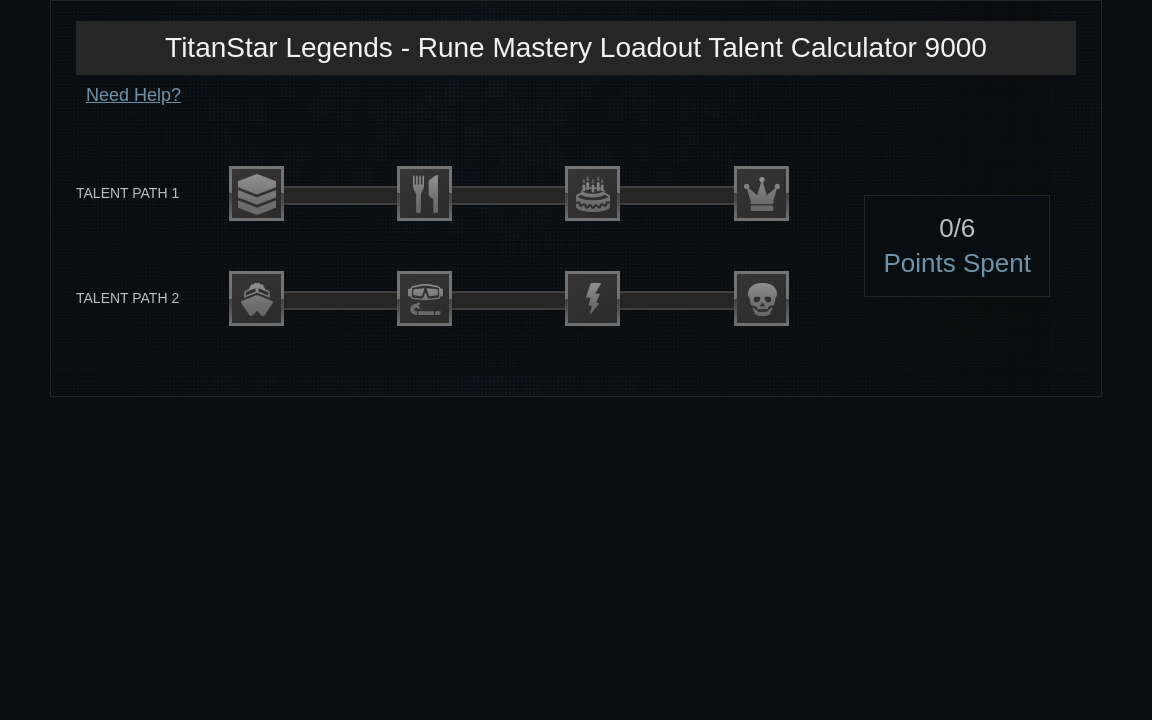
it: <App /> updates count as items are selected and deselected
Expected: the text "0/6" is shown, [939, 212, 975, 244]
# Add items and check the count
Click the button named "chevron" at {"x": 257, "y": 193}, box [229, 166, 284, 221]
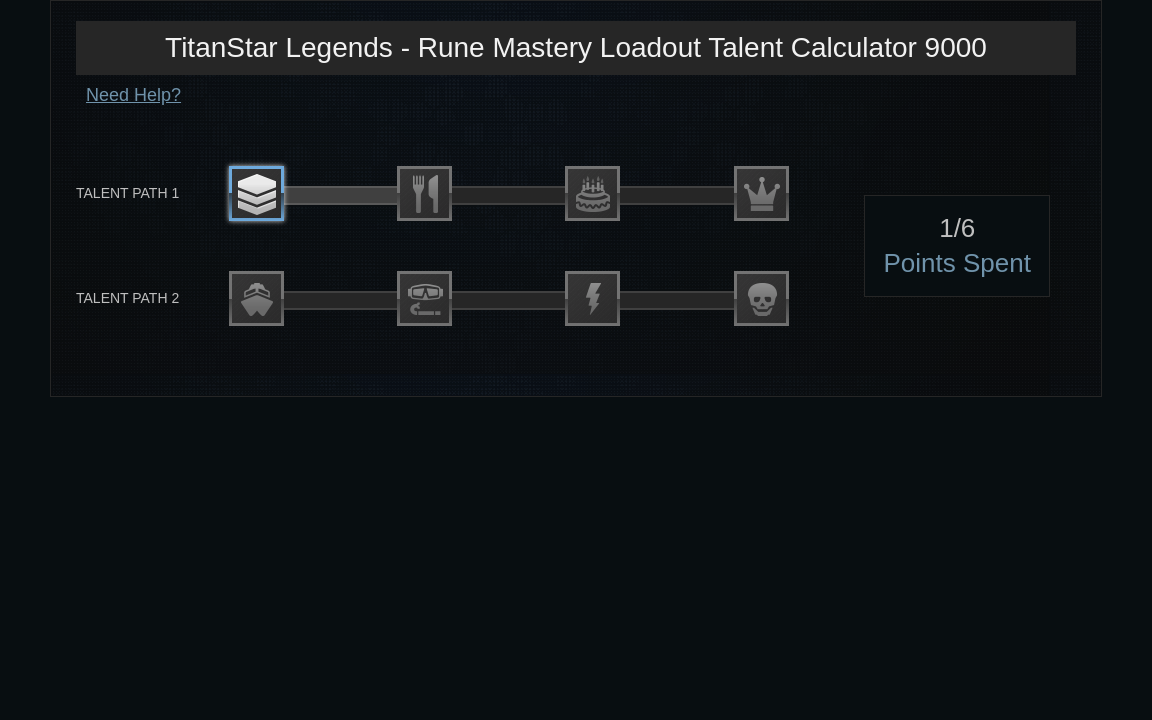
Now the text "0/6" is gone
Now the text "1/6" is shown, box [939, 212, 975, 244]
Click the button named "silverware" at {"x": 425, "y": 193}, box [397, 166, 452, 221]
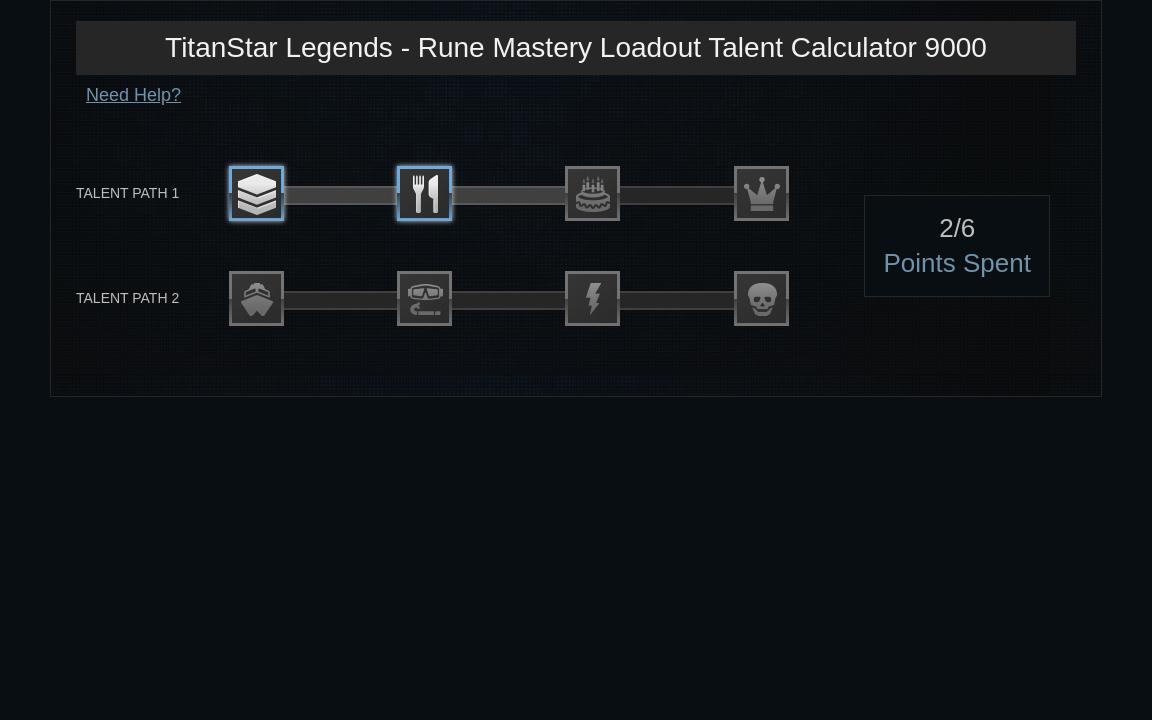
Now the text "1/6" is gone
Now the text "2/6" is shown, box [939, 212, 975, 244]
Click the button named "cake" at {"x": 593, "y": 193}, box [565, 166, 620, 221]
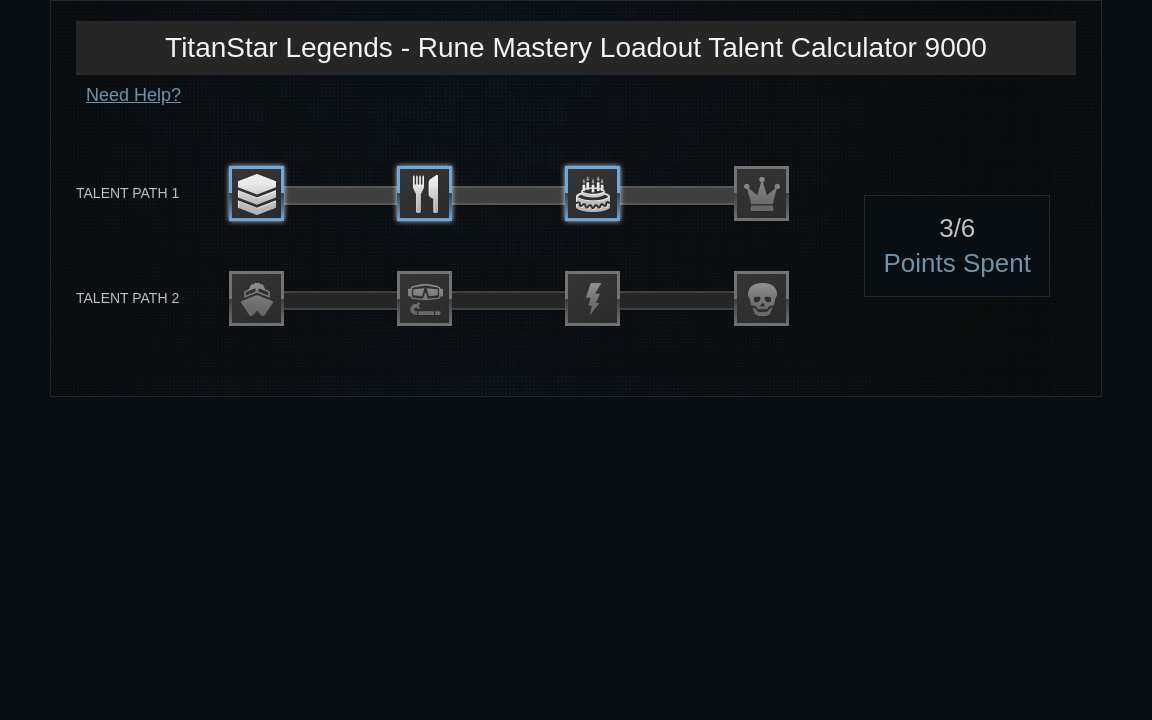
Now the text "2/6" is gone
Now the text "3/6" is shown, box [939, 212, 975, 244]
# Remove a single item and check count
Right-click the button named "cake" at {"x": 593, "y": 193}, box [565, 166, 620, 221]
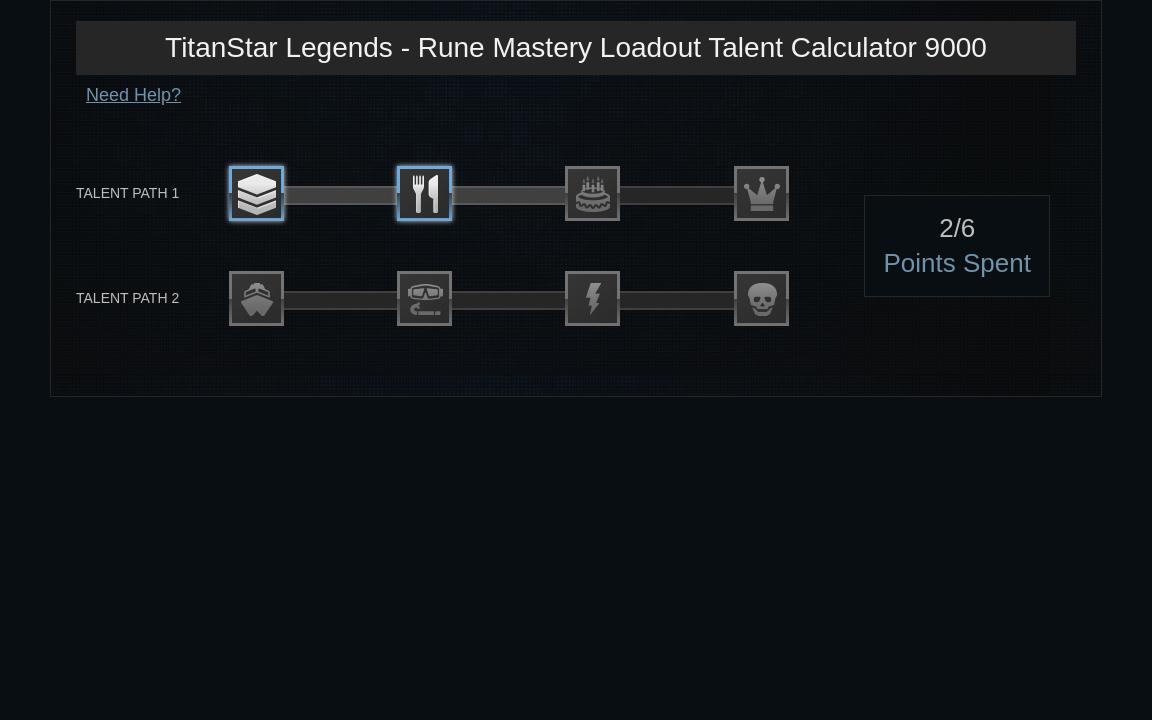
Now the text "3/6" is gone
Now the text "2/6" is shown, box [939, 212, 975, 244]
# Remove a prerequisite item and check count
Right-click the button named "chevron" at {"x": 257, "y": 193}, box [229, 166, 284, 221]
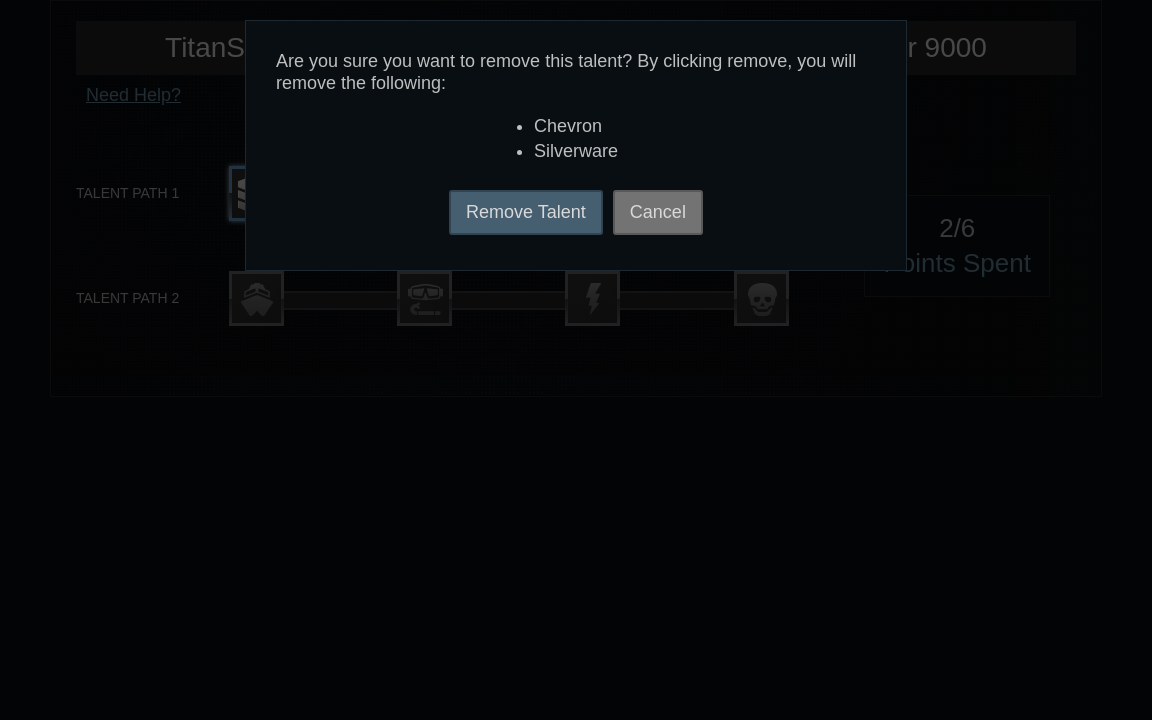
Now the text "2/6" is shown, box [939, 212, 975, 244]
Now the text "Are you sure you want to remove this talent" is shown, box [276, 51, 856, 93]
Click the button "Remove Talent" at {"x": 526, "y": 212}, box [449, 190, 603, 235]
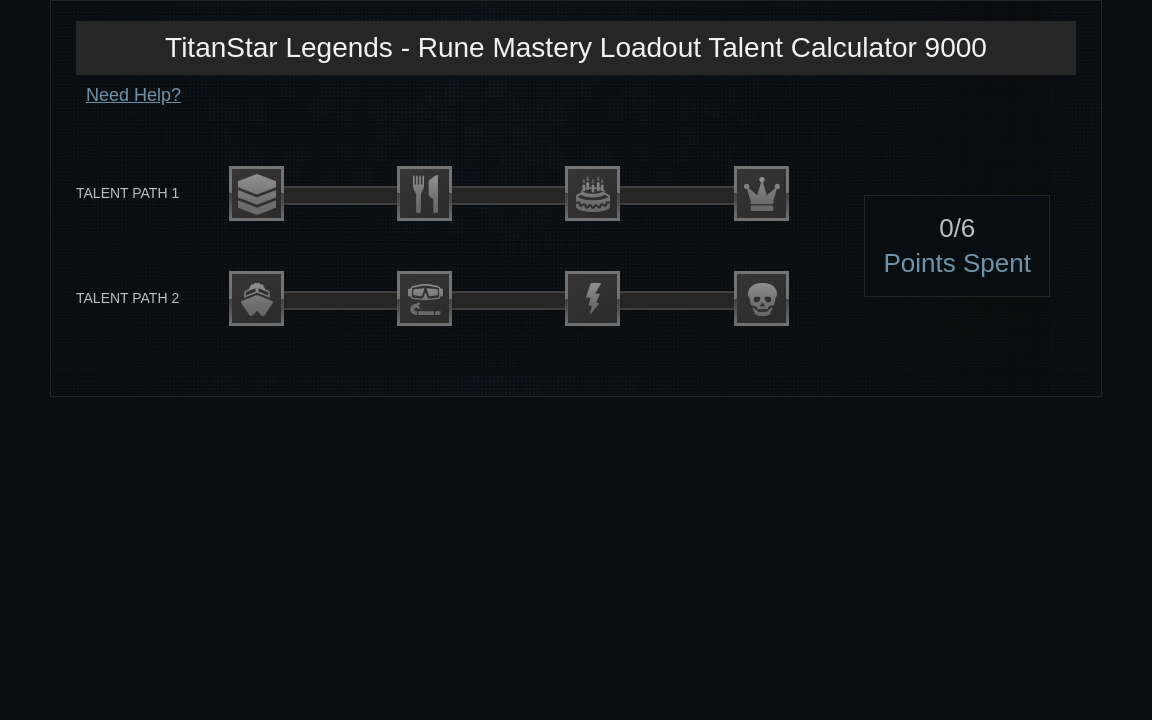
Now the text "2/6" is gone
Now the text "0/6" is shown, box [939, 212, 975, 244]
